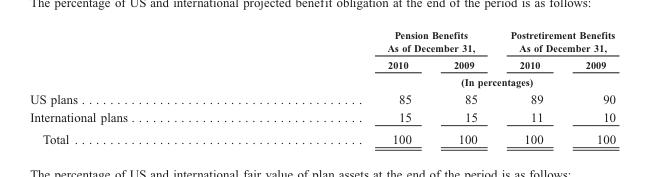table: (29, 29, 615, 145)
table column: (29, 29, 256, 145), (256, 29, 431, 145), (493, 29, 563, 145), (431, 29, 493, 145), (563, 29, 615, 145)
table column header: (29, 29, 615, 89)
table row: (29, 29, 615, 56), (29, 107, 615, 127), (29, 89, 615, 107), (29, 127, 615, 145), (29, 56, 615, 73), (29, 73, 615, 89)
table spanning cell: (256, 29, 493, 56), (256, 73, 615, 89), (493, 29, 615, 56)
